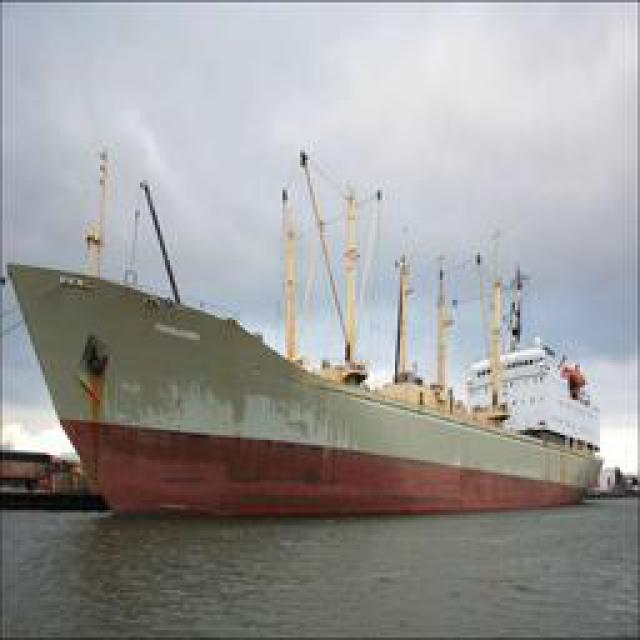Ship: (17, 200, 615, 523)
